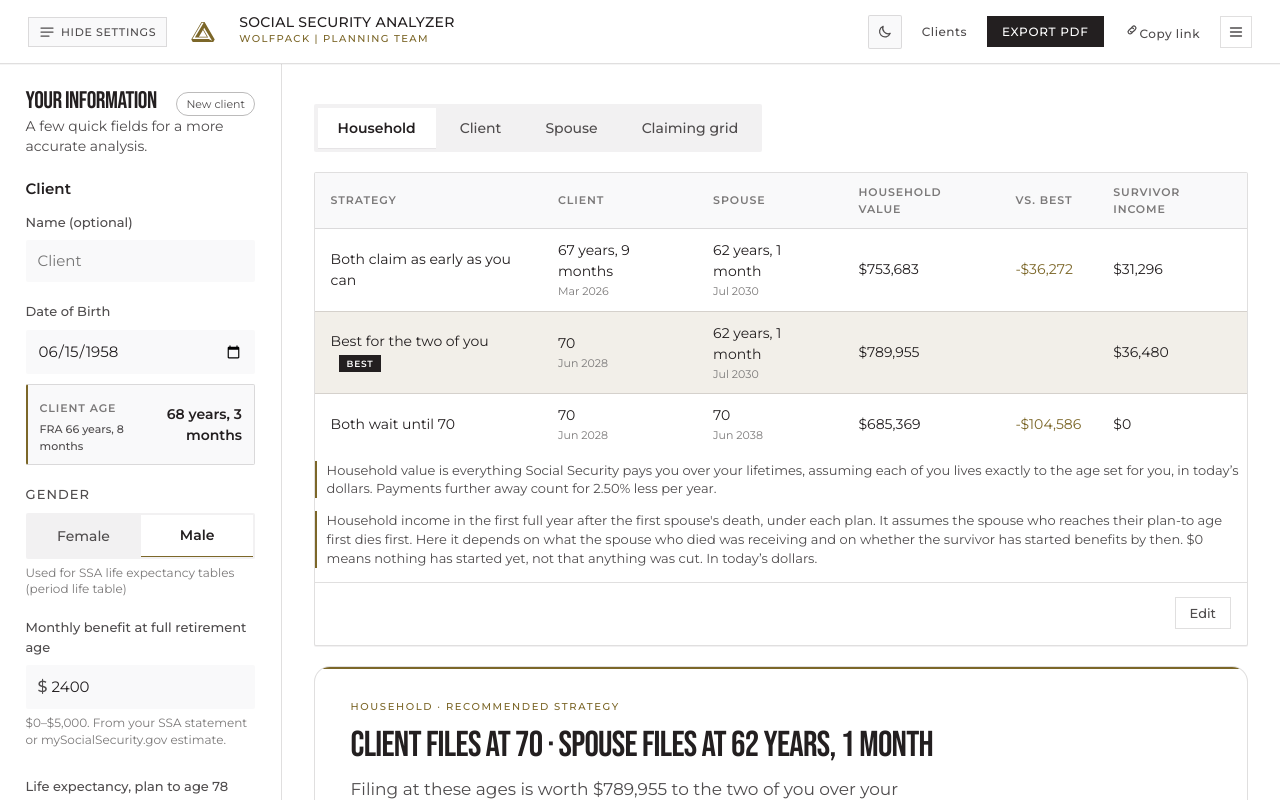
Test: Analyzer › the About panel › keeps its own heading distinct from About's, even with both visible at once
Click the button named "menu": {"x": 1236, "y": 32} [1220,16,1252,48]
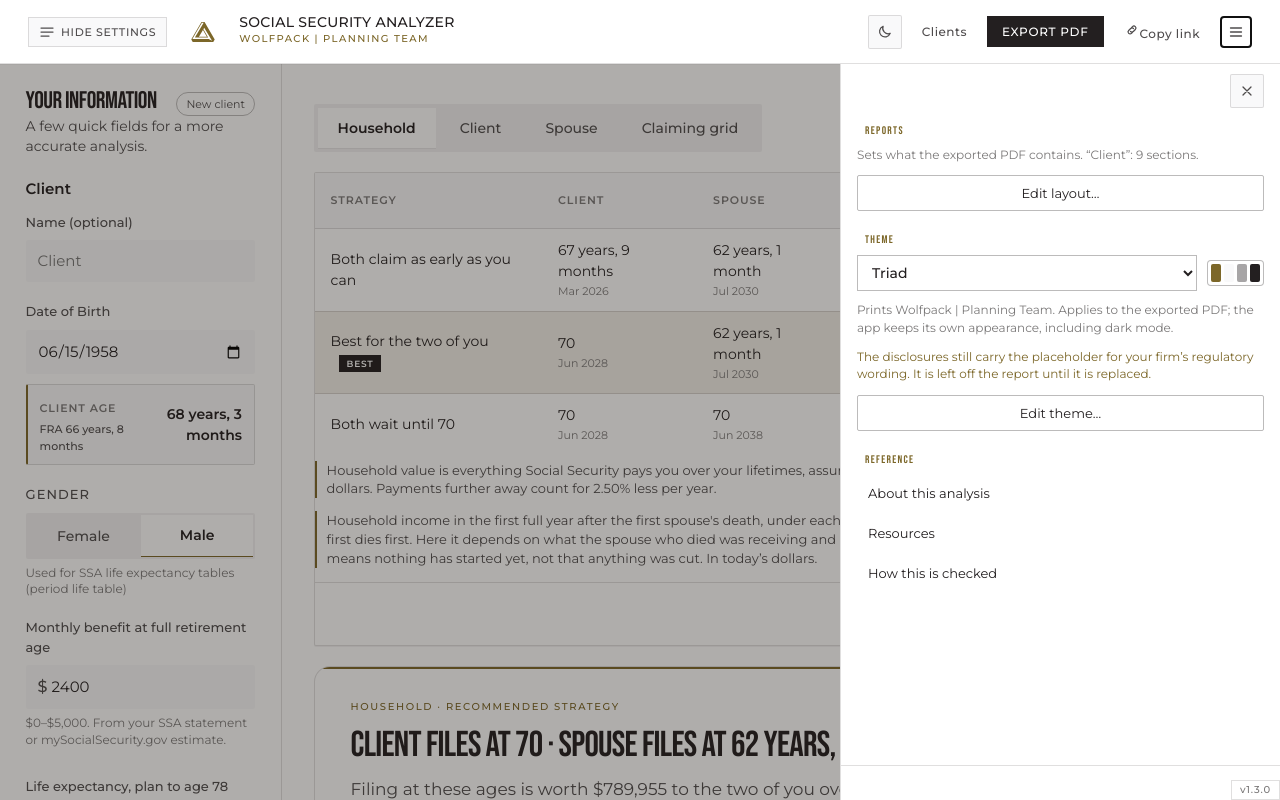
Click the button "About this analysis": {"x": 929, "y": 493} [857,475,1264,511]
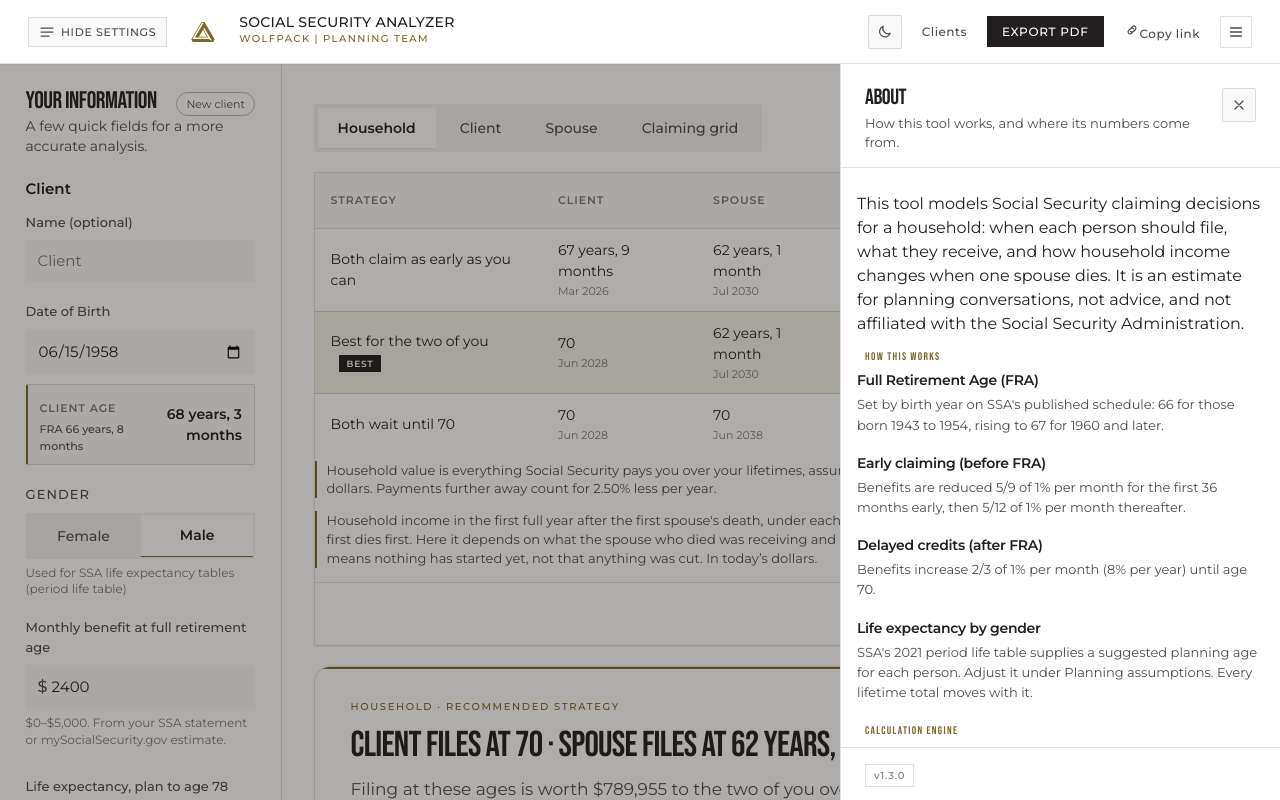
Now the number of headings "How This Works" is 1, box [865,350,940,364]
